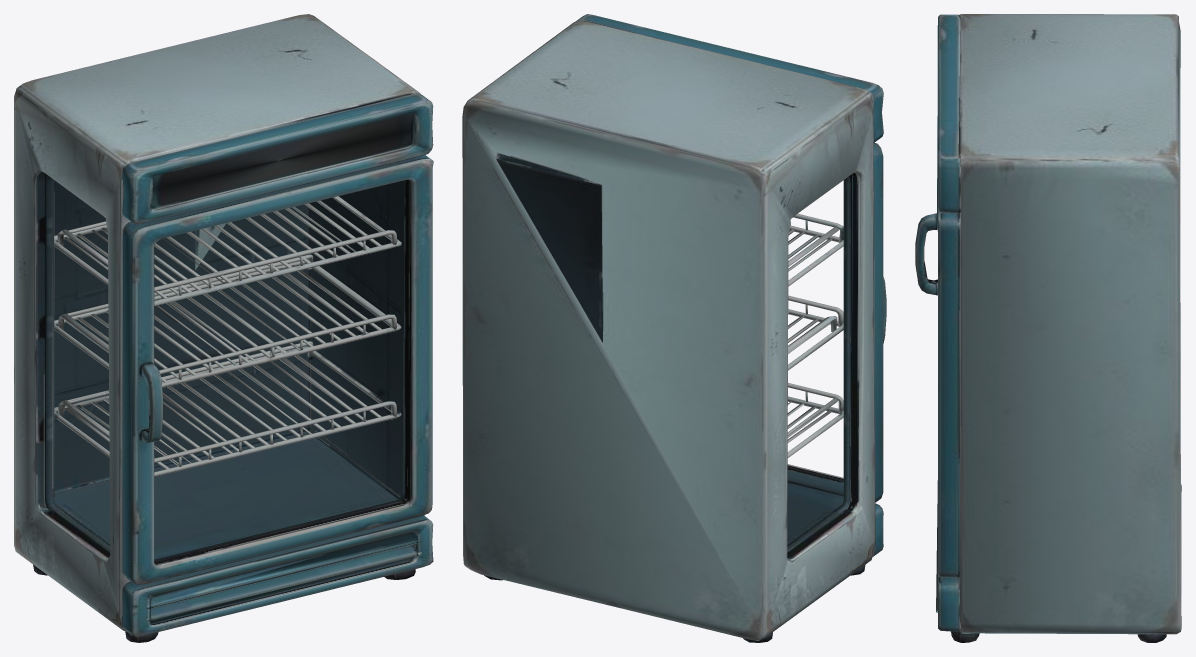
The model's file is fridge_off.glb.
The picture shows the model from 3 angles, left to right: view 1: azimuth 30°, elevation 25°; view 2: azimuth 150°, elevation 25°; view 3: azimuth 270°, elevation 25°; orthographic projection.
Parts seen in each view (by area): view 1: fridge_off; view 2: fridge_off; view 3: fridge_off.
Boxes of the visible parts, box(x1,y1,x2,y2) form: fridge_off: box(14, 14, 433, 642); fridge_off: box(462, 14, 886, 642); fridge_off: box(915, 14, 1181, 642).
Bounding box in the file's own units: 0.94 × 1.42 × 0.7.
1 material, 1 textured.
